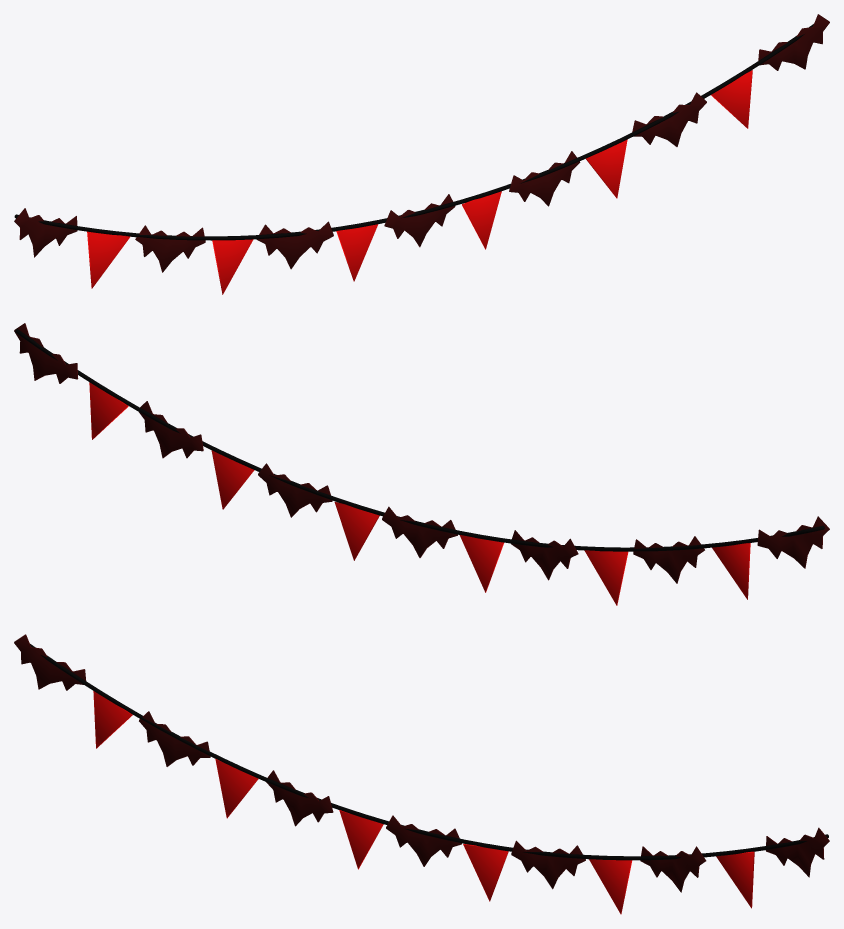
The model's file is Deco_Bunting.fbx.
3 views of the same model, one above another, from view 1: azimuth 30°, elevation 25°; view 2: azimuth 150°, elevation 25°; view 3: azimuth 330°, elevation 25° (orthographic).
Parts seen in each view (by area): view 1: Deco_Bunting; view 2: Deco_Bunting; view 3: Deco_Bunting.
Part boxes in pixels (left/top/right/bottom): Deco_Bunting: left=14, top=14, right=829, bottom=294; Deco_Bunting: left=14, top=323, right=829, bottom=605; Deco_Bunting: left=14, top=634, right=829, bottom=914.
Size of the model in its own units: 4.04 by 0.738 by 0.0463.
